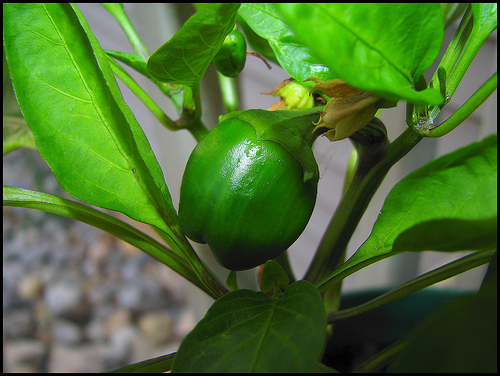capsicum: (169, 93, 325, 276)
